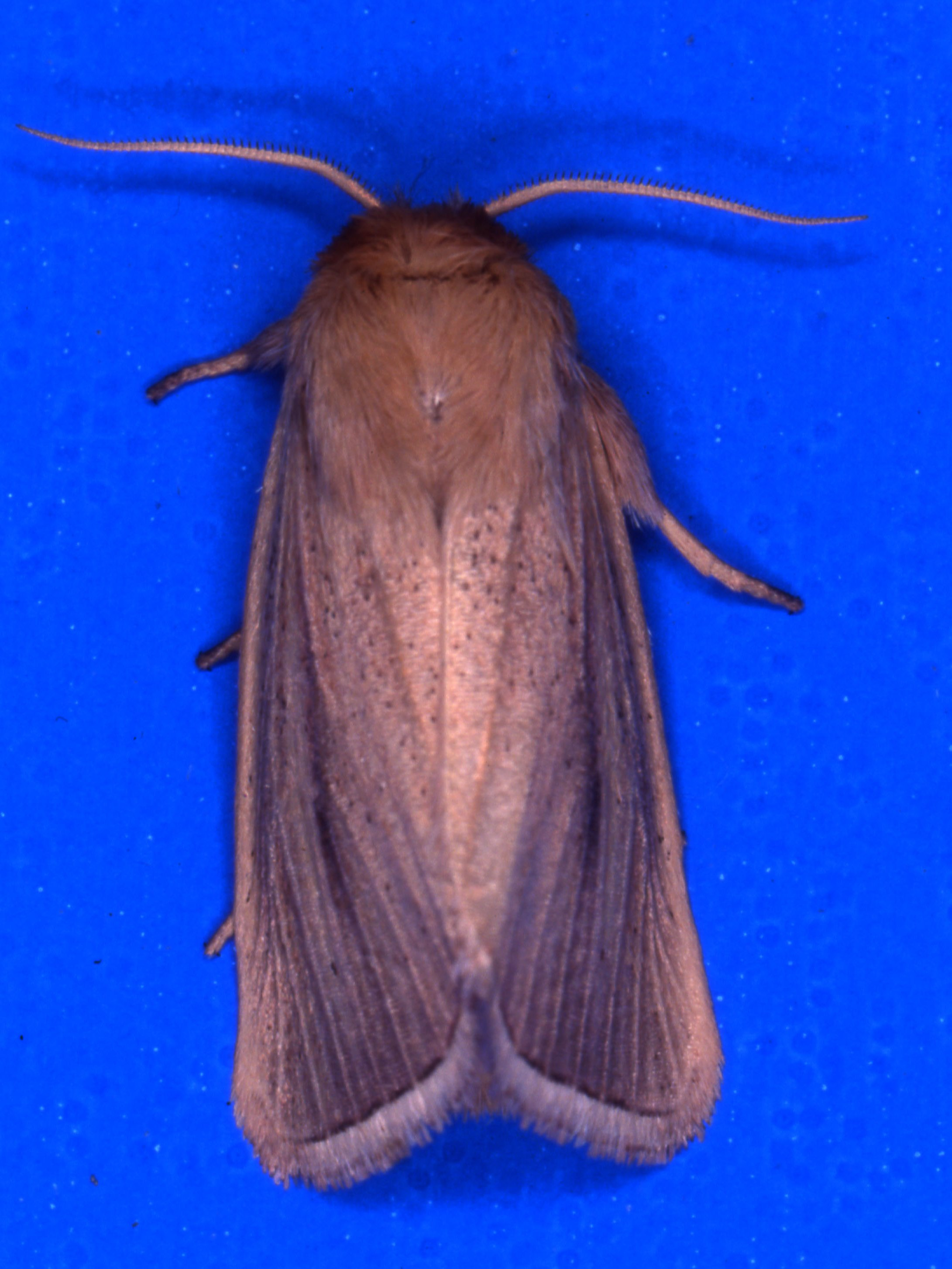Noctuidae: (5, 123, 866, 1183)
